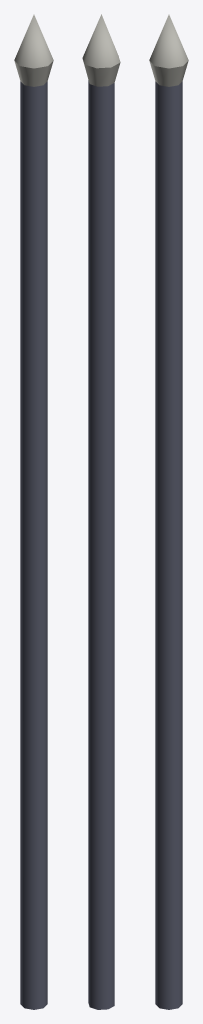
File: Barrote.fbx
The picture shows the model from 3 angles, left to right: view 1: azimuth 90°, elevation 25°; view 2: azimuth 210°, elevation 25°; view 3: azimuth 270°, elevation 25°; orthographic projection.
Visible parts, largest first — view 1: Cylinder.009; view 2: Cylinder.009; view 3: Cylinder.009.
Boxes of the visible parts, x1,y1,x2,y2 form: Cylinder.009: (14, 14, 53, 1009); Cylinder.009: (82, 14, 120, 1009); Cylinder.009: (149, 14, 188, 1009).
Bounding box in the file's own units: 11.63 × 322 × 11.63.
